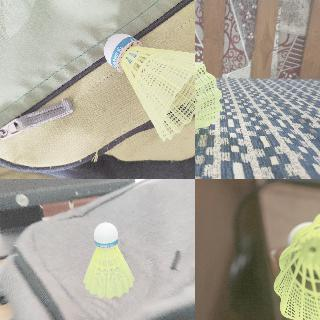shuttlecock: (103, 34, 194, 141), (274, 203, 319, 319), (82, 222, 134, 300), (195, 53, 222, 156)
